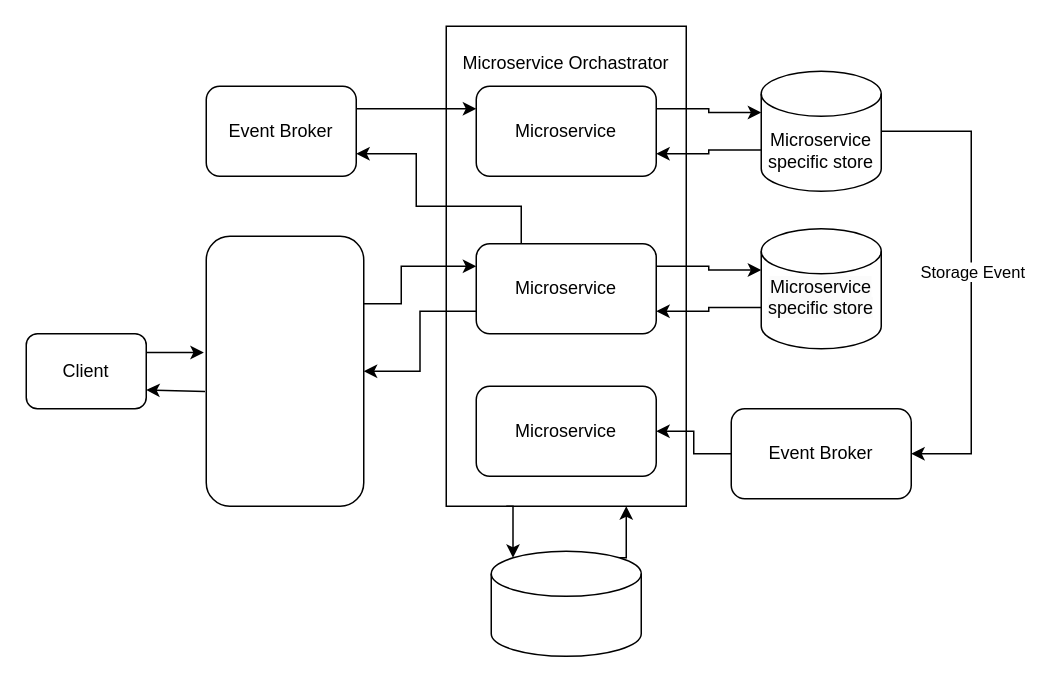
Some shapes in this 1050 by 683 pixel diagram are drawn without their labels. Here are the shapes that lost their labels. From the top down, the centre of each, then its label:
point (284, 370): API Layer / Load balencer
point (565, 603): Shared database
